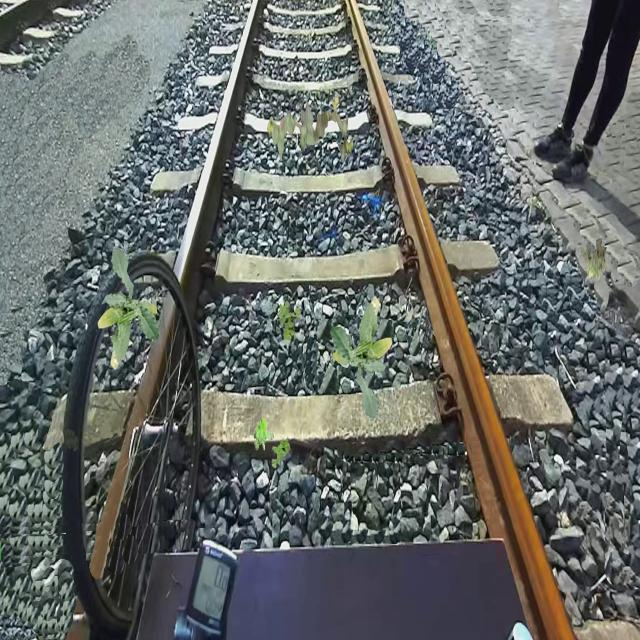Plant: (97, 246, 160, 370), (330, 296, 392, 421), (267, 95, 354, 164), (581, 239, 607, 282), (277, 301, 301, 342), (254, 418, 274, 451), (271, 436, 290, 468)
